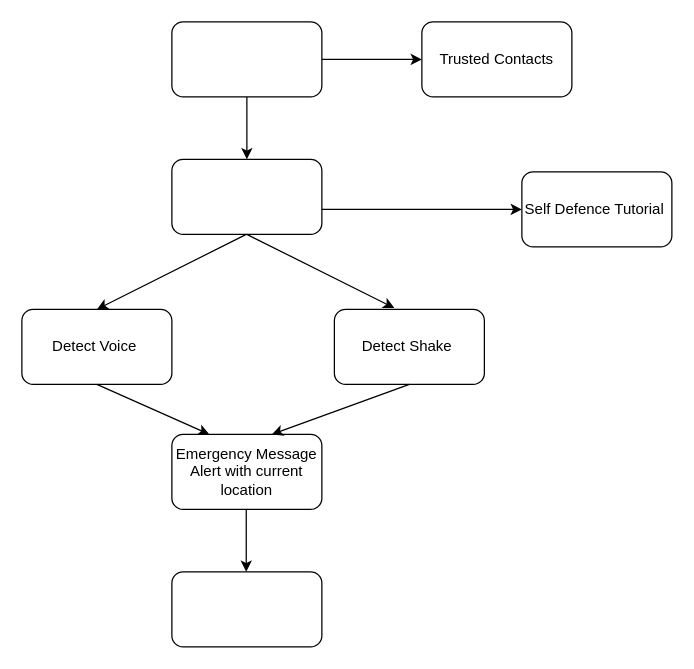
This 694x669 diagram has some shape labels left out. Each missing label, with the box of its shape:
Login: (171, 158, 322, 234)
Registeration: (171, 21, 322, 97)
Voice Recording: (171, 571, 322, 647)
